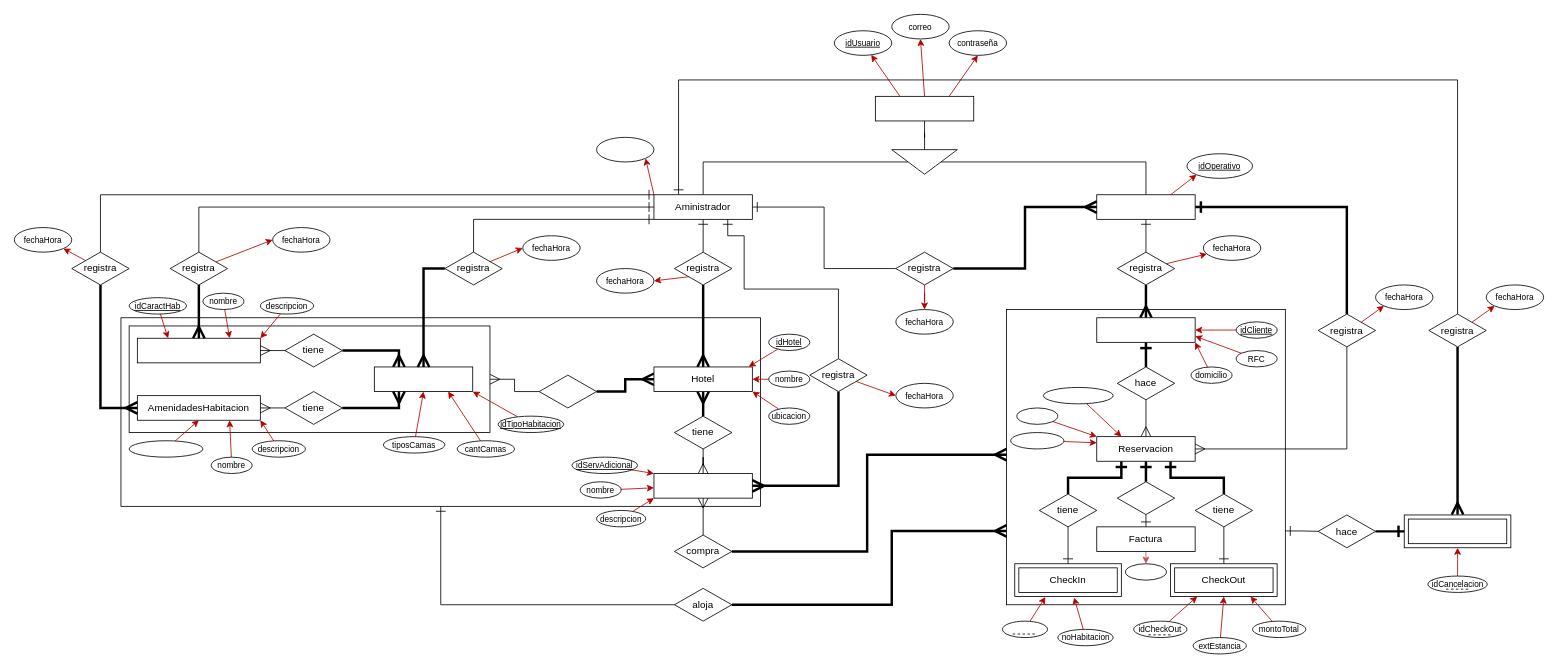
Image size: 1558x668. Some labels were removed from this diagram. Each missing label, with the centre of its shape:
Cancelacion: (1457,531)
cantPersonas: (1037,440)
CaracteristicaHabitacion: (198,350)
cdoReservacion: (1078,395)
ciudad: (1037,415)
Cliente: (1145,329)
es: (924,161)
genera: (1145,498)
idAdministrador: (625,149)
idAmenidadesHab: (165,448)
idCheckIn: (1025,629)
noFactura: (1145,571)
Operativo: (1145,206)
pertenece: (567,391)
ServicioAdicional: (702,485)
TipoHabitacion: (423,379)
Usuario: (924,108)
